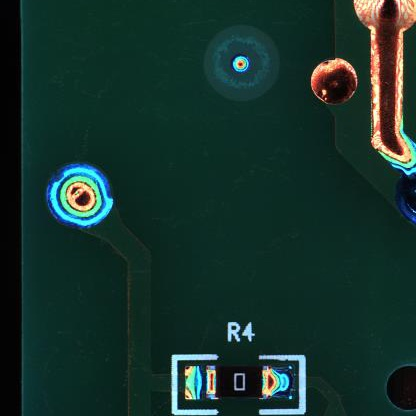spot: (44, 162, 114, 230)
